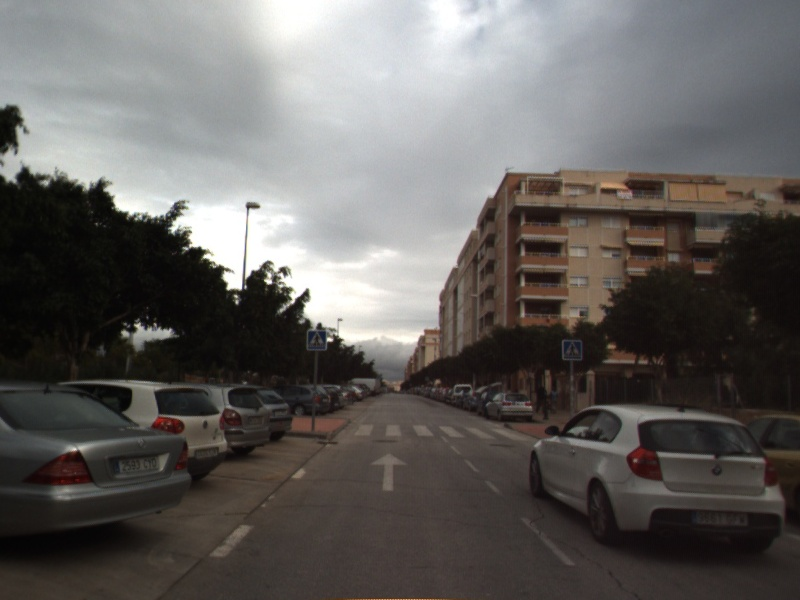STRAIGHT: (368, 451, 410, 493)
